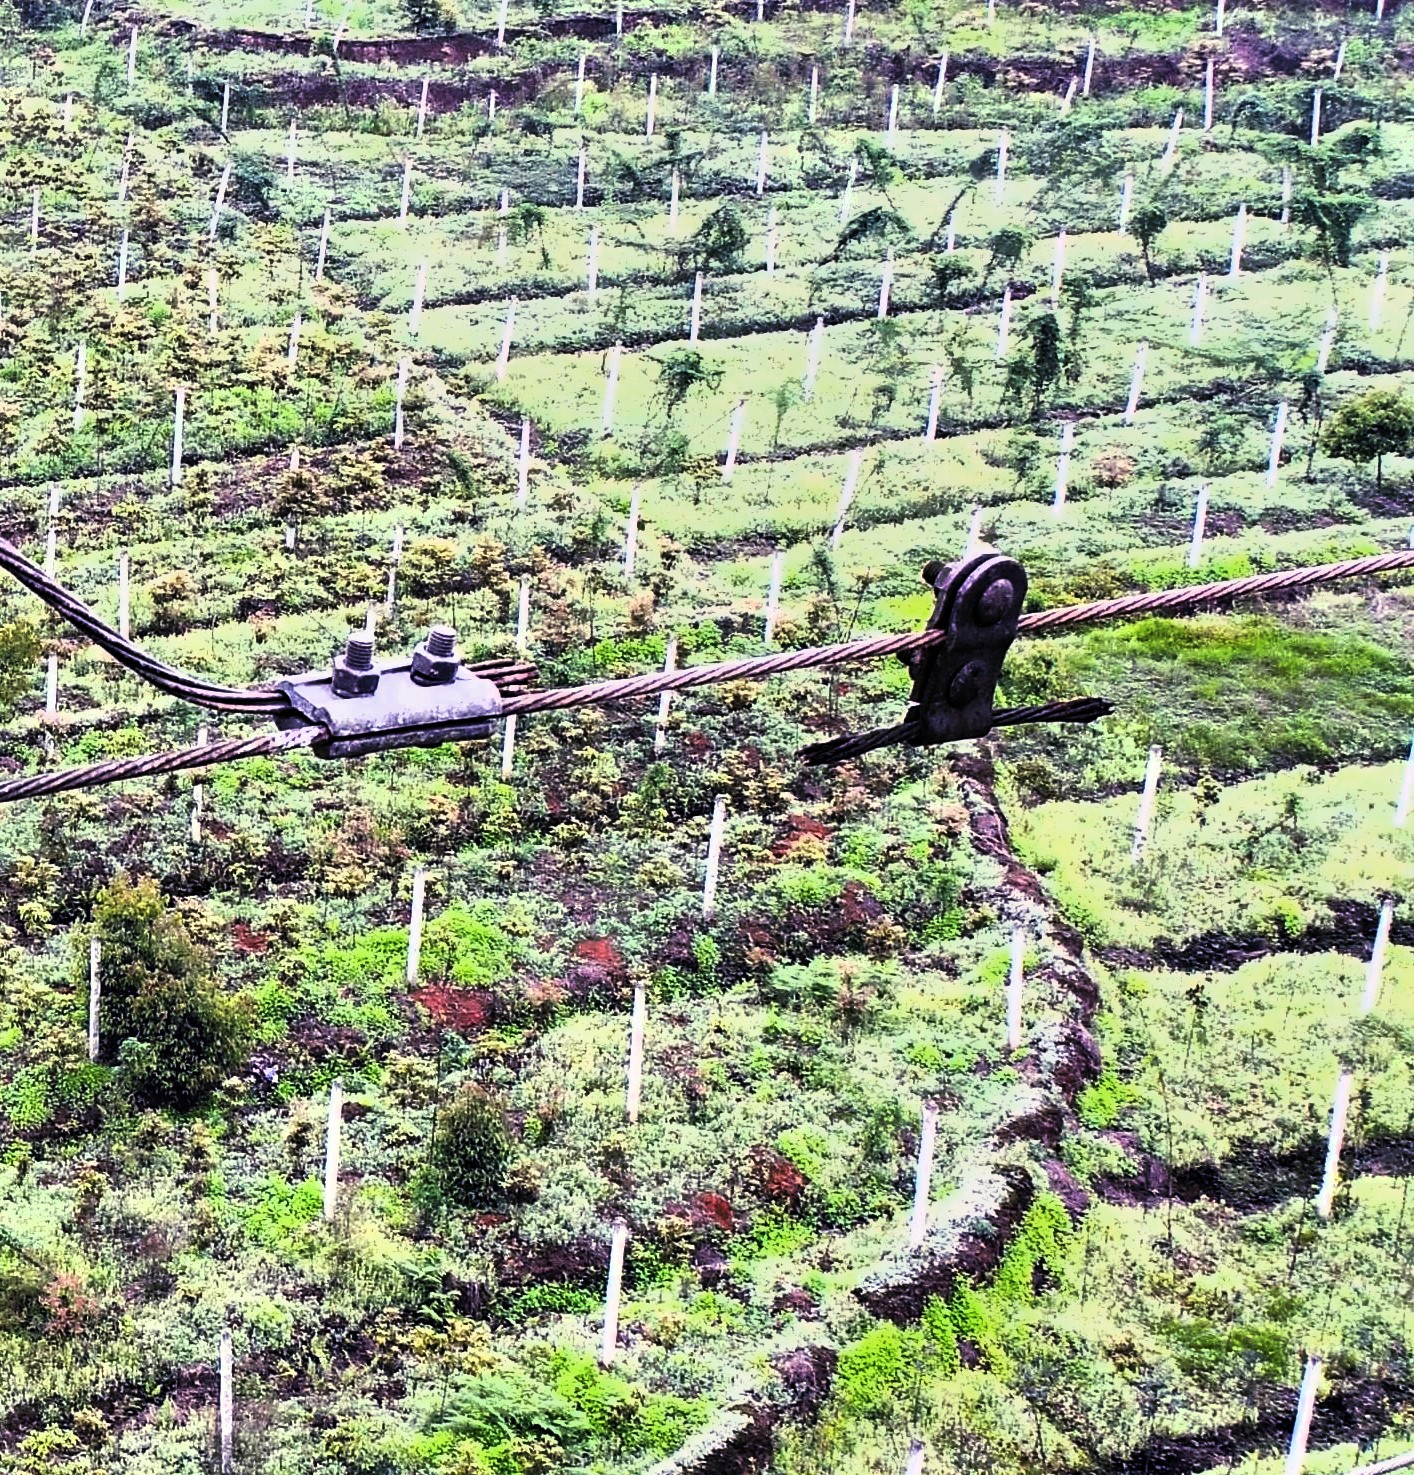Damage of shockproof hammer: (782, 536, 1138, 780)
